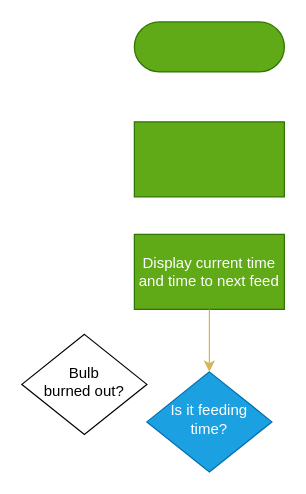
This 306x494 diagram has some shape labels left out. Here are the shapes that lost their labels. From the top down, the box of each, then its label:
(133, 21, 284, 72): Start
(133, 121, 284, 197): Initialize LCD and calibrate weight sensors
